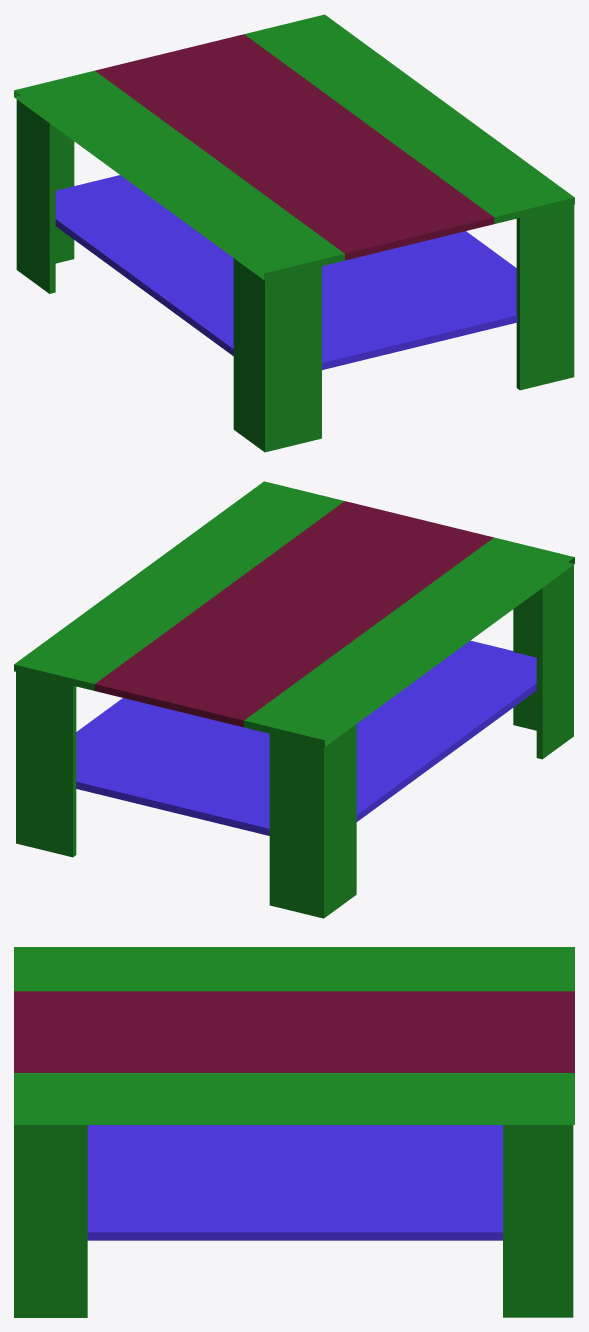
File: TableBasse.FBX
3 renders of one model, top to bottom at view 1: azimuth 30°, elevation 25°; view 2: azimuth 150°, elevation 25°; view 3: azimuth 270°, elevation 25°, orthographic. The views are drawn at different scales.
Parts seen in each view (by area): view 1: Cube.002; view 2: Cube.002; view 3: Cube.002.
Boxes of the visible parts, x1,y1,x2,y2 form: Cube.002: [14, 14, 574, 452]; Cube.002: [14, 481, 574, 918]; Cube.002: [14, 947, 574, 1317].
Bounding box in the file's own units: 331 × 183 × 462.
